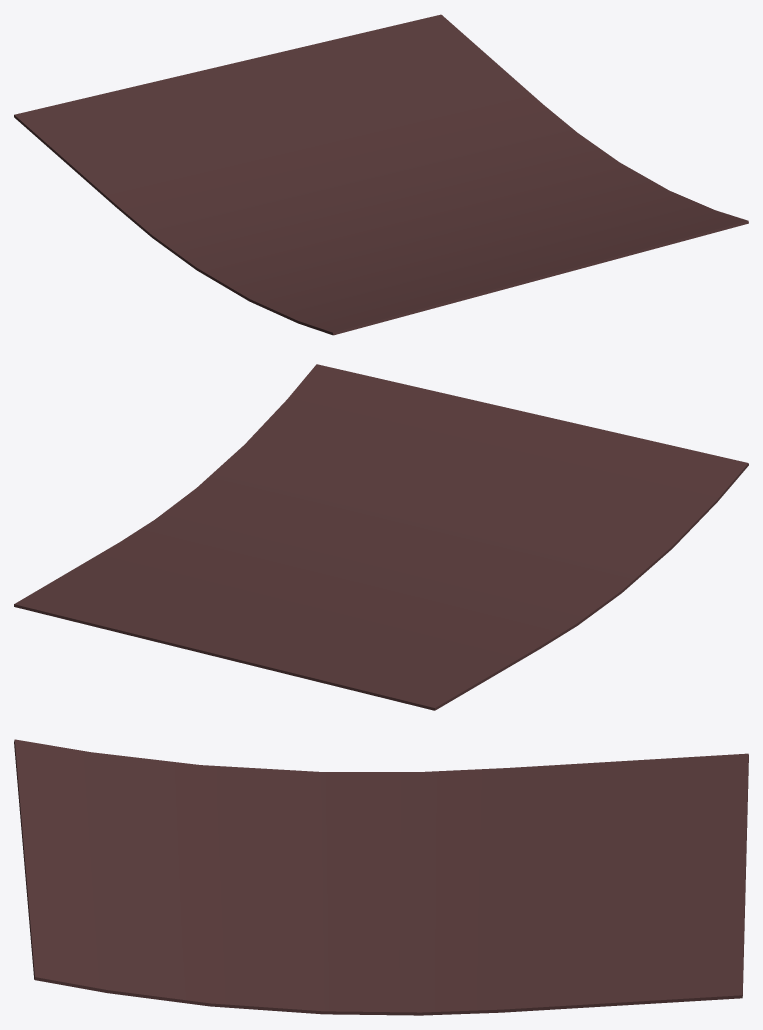
The model's file is Carta_Inicio 1.fbx.
3 views of the same model, one above another, from view 1: azimuth 30°, elevation 25°; view 2: azimuth 150°, elevation 25°; view 3: azimuth 270°, elevation 25° (orthographic). The views are drawn at different scales.
Visible parts, largest first — view 1: pCube1; view 2: pCube1; view 3: pCube1.
Boxes of the visible parts, <box> form: pCube1: <box>14,14,748,335</box>; pCube1: <box>14,364,748,710</box>; pCube1: <box>14,739,748,1015</box>.
Size of the model in its own units: 4.31 by 0.3401 by 5.52.
